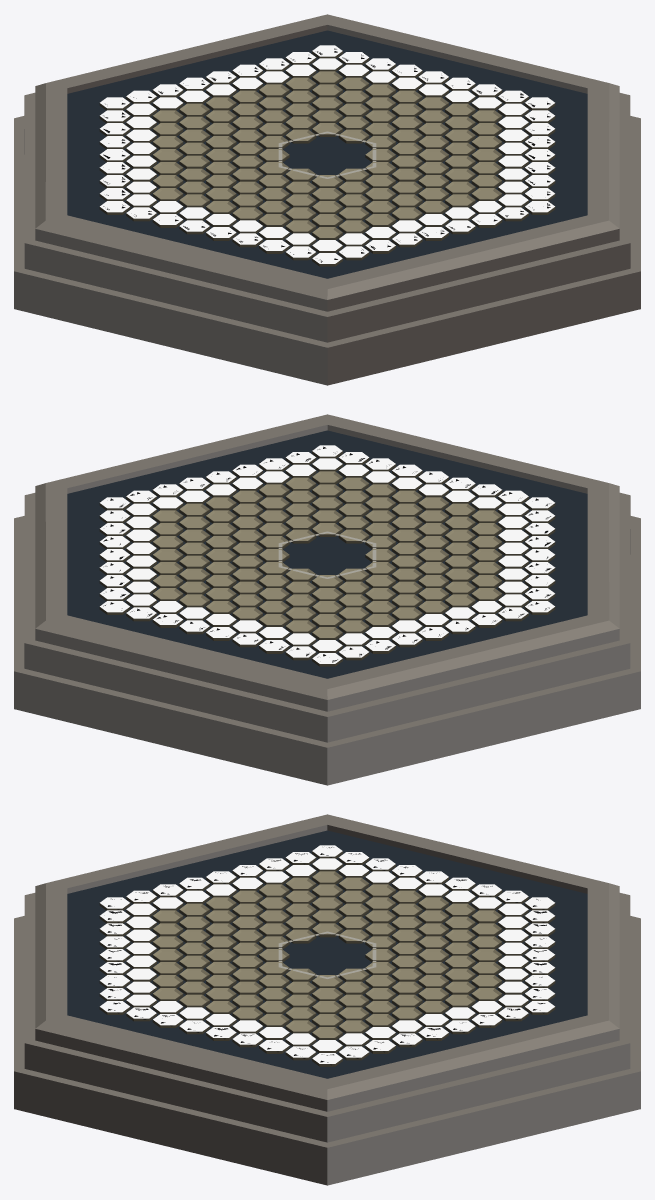
The model's file is slab-royale.glb.
3 renders of one model, top to bottom at view 1: azimuth 30°, elevation 25°; view 2: azimuth 150°, elevation 25°; view 3: azimuth 270°, elevation 25°, orthographic.
Visible parts, largest first — view 1: scene_royale_slab, scene_royale_hole_rim; view 2: scene_royale_slab, scene_royale_hole_rim; view 3: scene_royale_slab, scene_royale_hole_rim.
Boxes of the visible parts, x1,y1,x2,y2 form: scene_royale_slab: (14, 14, 640, 385); scene_royale_hole_rim: (278, 131, 376, 178); scene_royale_slab: (14, 414, 640, 785); scene_royale_hole_rim: (278, 531, 376, 578); scene_royale_slab: (14, 814, 640, 1185); scene_royale_hole_rim: (278, 931, 376, 978).
Bounding box in the file's own units: 11.8 × 1.45 × 10.22.
